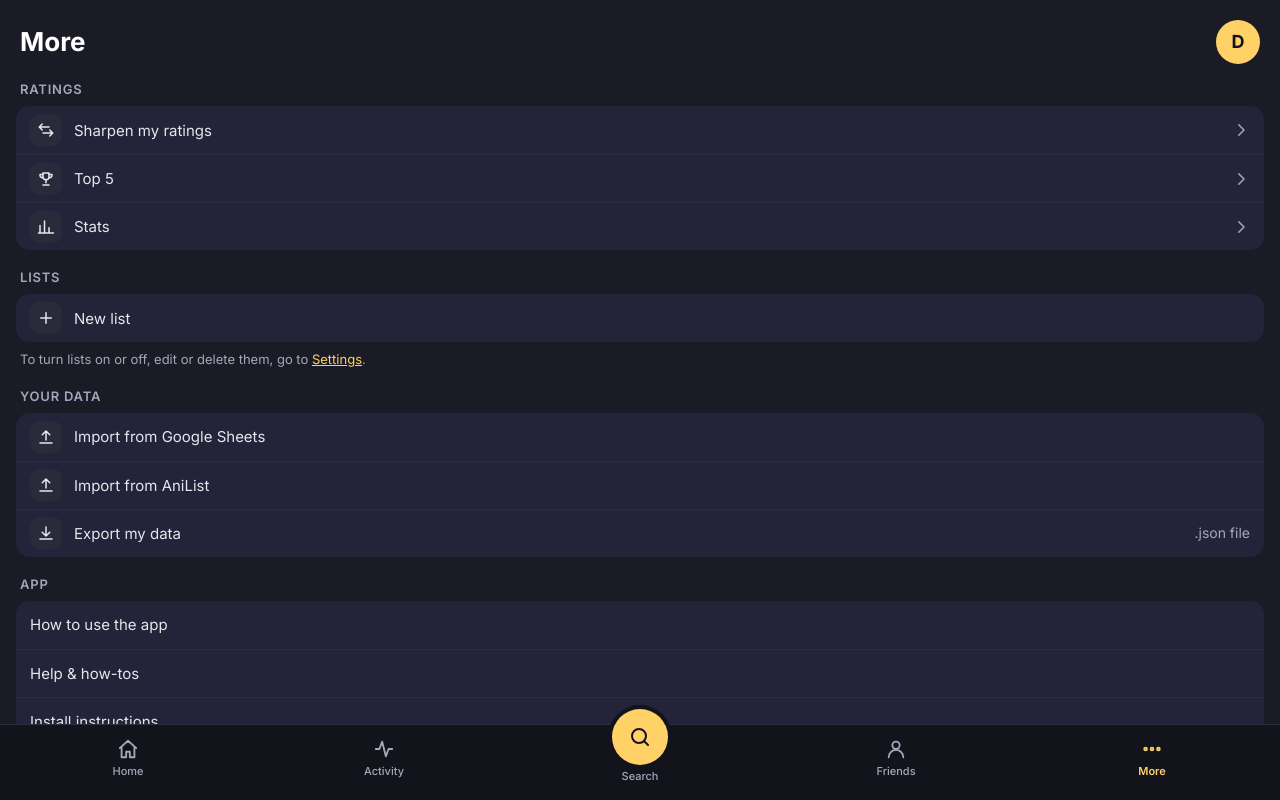
Test: More (SettingsMore.v2) › How to use the app re-opens the walkthrough
This screenshot has width=1280, height=800.
Click the button "How to use the app".
click(99, 625)  # box [16,601,1264,649]
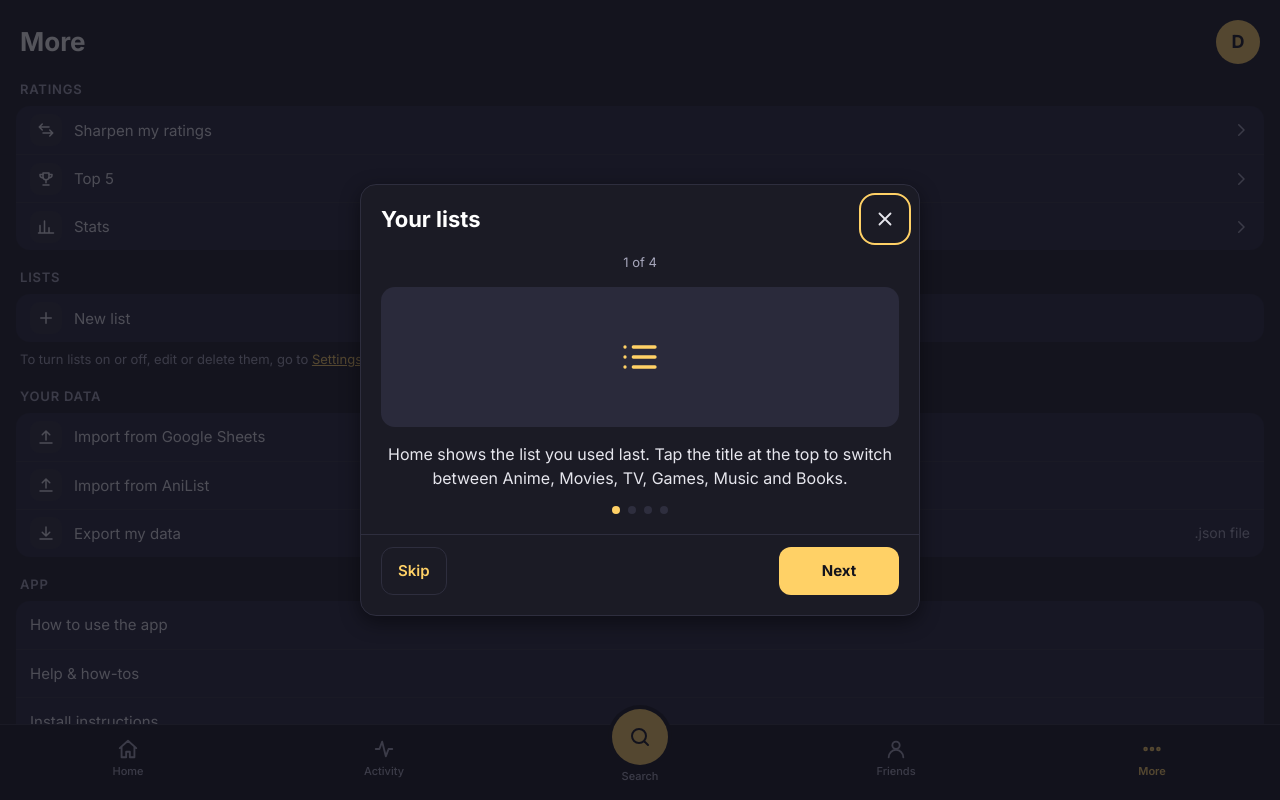
Now the dialog "Your lists" is shown, box [360,184,920,616]
Click the button "Skip".
click(414, 571)  # box [381,547,447,595]
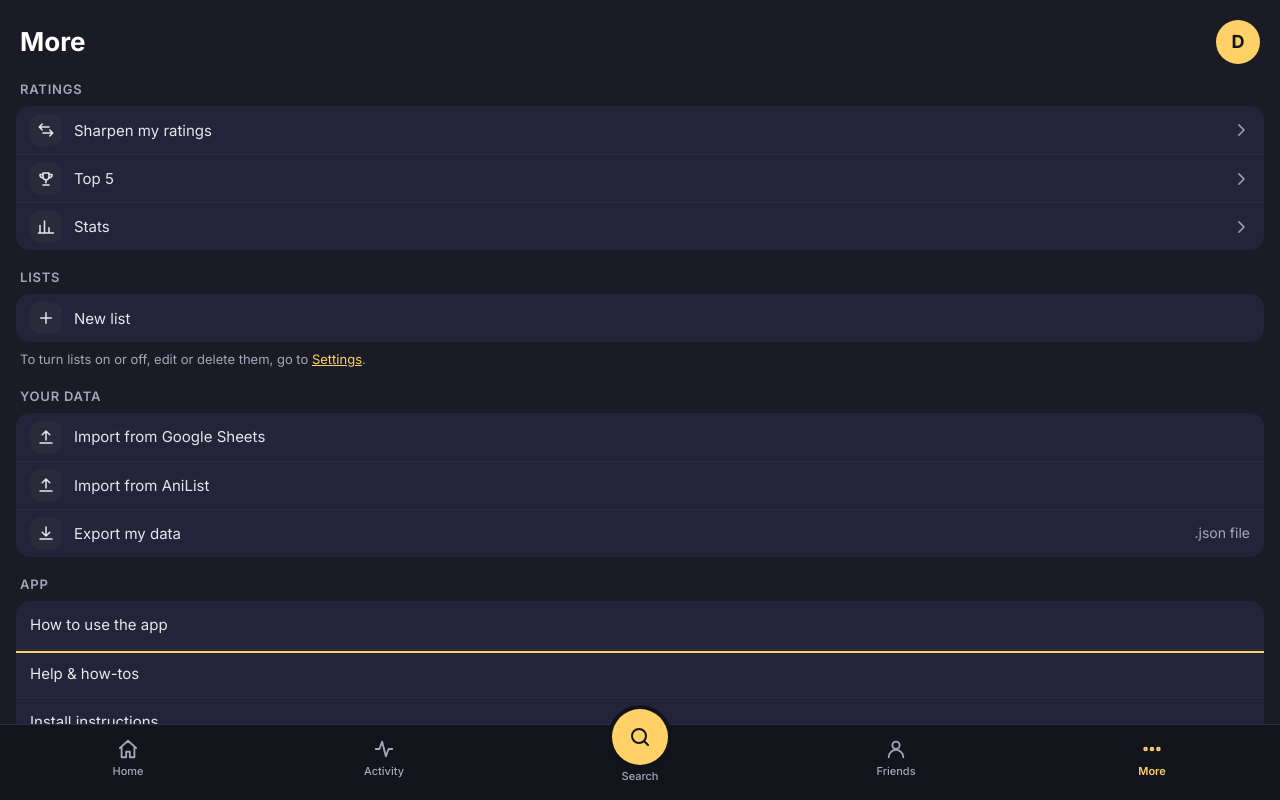
Now the dialog is gone
